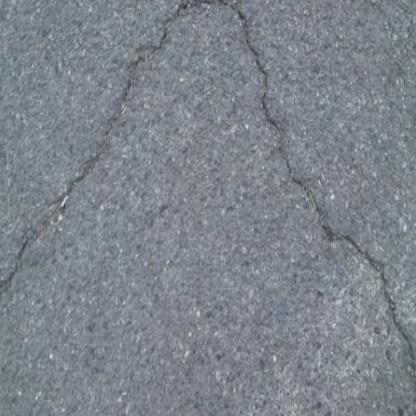Cracks: (203, 0, 416, 416), (58, 0, 364, 193), (0, 166, 140, 402)
